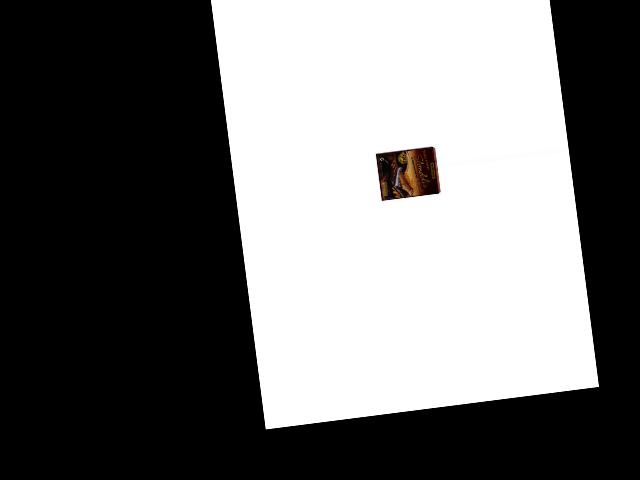chocolate: (375, 146, 441, 200)
